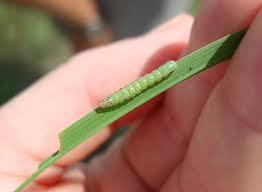fallarmy_worm: (90, 58, 182, 111)
